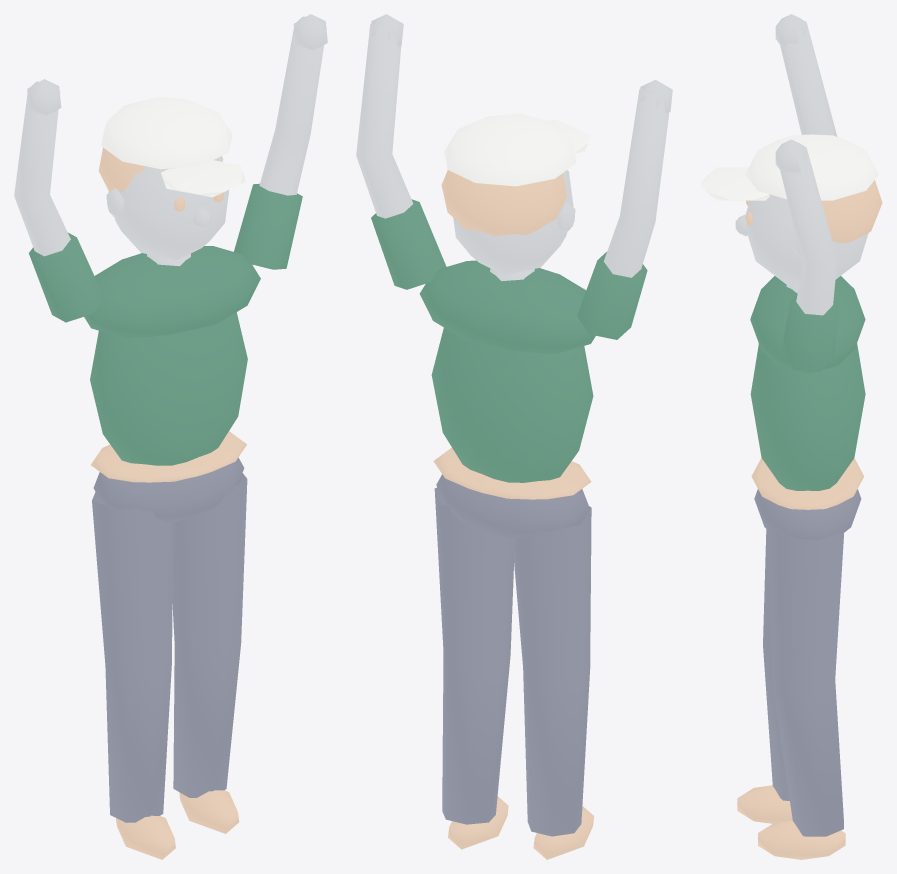
The model's file is Blender_Spectator_5.glb.
3 renders of one model, left to right at view 1: azimuth 30°, elevation 25°; view 2: azimuth 150°, elevation 25°; view 3: azimuth 270°, elevation 25°, orthographic. The views are drawn at different scales.
Visible parts, largest first — view 1: Blender_Spectator_5; view 2: Blender_Spectator_5; view 3: Blender_Spectator_5.
Part boxes in pixels (x1=…): Blender_Spectator_5: x1=14, y1=14, x2=327, y2=859; Blender_Spectator_5: x1=356, y1=14, x2=672, y2=859; Blender_Spectator_5: x1=701, y1=14, x2=882, y2=859.
Bounding box in the file's own units: 0.4963 × 1.27 × 0.2725.
